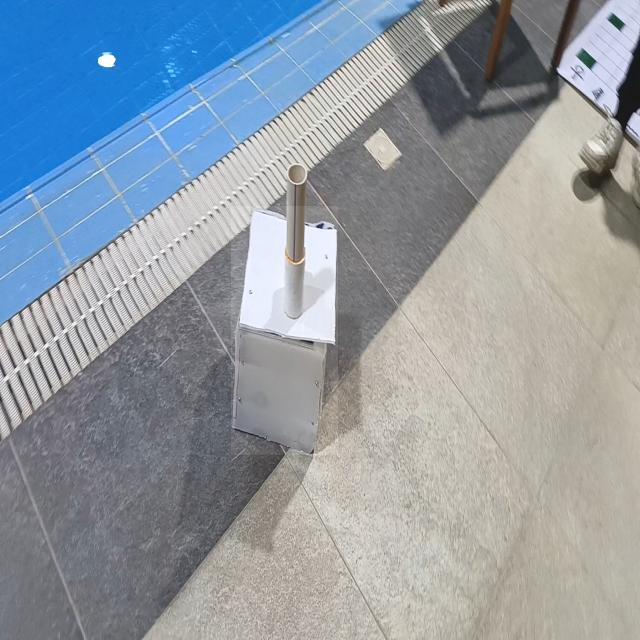Cube: (231, 206, 338, 455)
